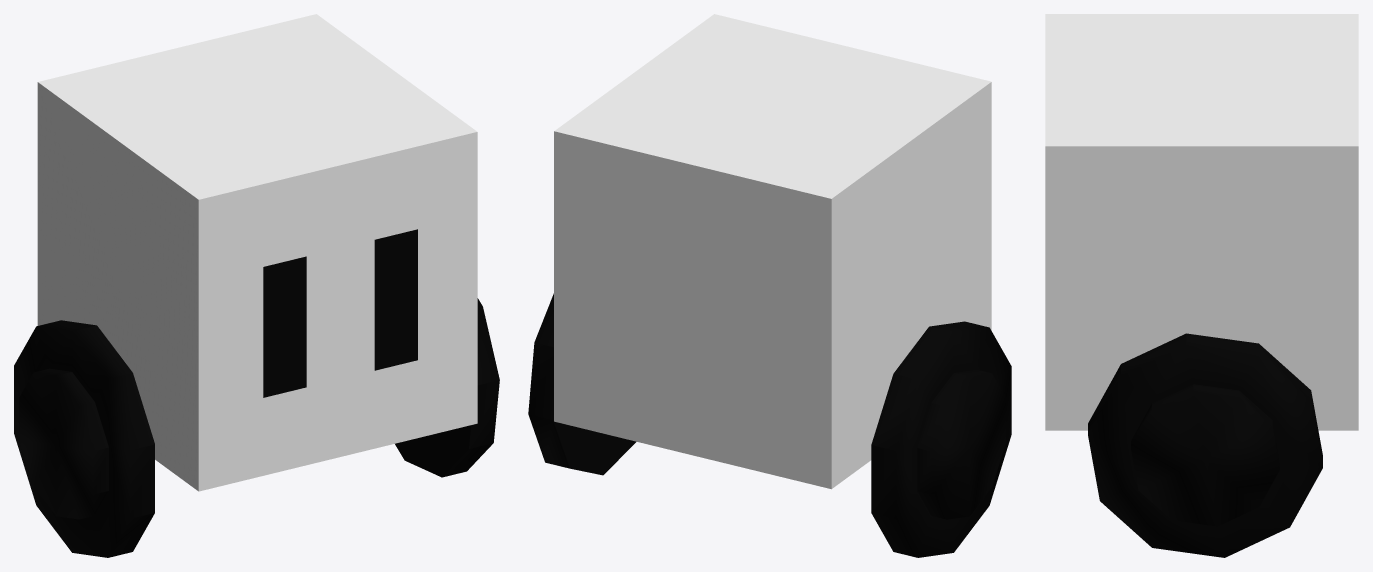
File: taiya.glb
3 renders of one model, left to right at view 1: azimuth 30°, elevation 25°; view 2: azimuth 150°, elevation 25°; view 3: azimuth 270°, elevation 25°, orthographic. The views are drawn at different scales.
Parts seen in each view (by area): view 1: pCube1, pCylinder4, pPlane1, pPlane2, pCylinder3; view 2: pCube1, pCylinder4, pCylinder3; view 3: pCube1, pCylinder3.
Part boxes in pixels (box(x1,y1,x2,y2)): pCube1: box(37, 14, 477, 491); pCylinder4: box(14, 320, 154, 557); pPlane1: box(263, 256, 306, 397); pPlane2: box(374, 229, 417, 370); pCylinder3: box(395, 298, 499, 477); pCube1: box(554, 14, 991, 489); pCylinder4: box(871, 321, 1011, 557); pCylinder3: box(528, 293, 636, 475); pCube1: box(1045, 14, 1358, 430); pCylinder3: box(1088, 333, 1322, 557).
Bounding box in the file's own units: 0.0716 × 0.069 × 0.0508.
Materials: 1 (1 with a texture image).
